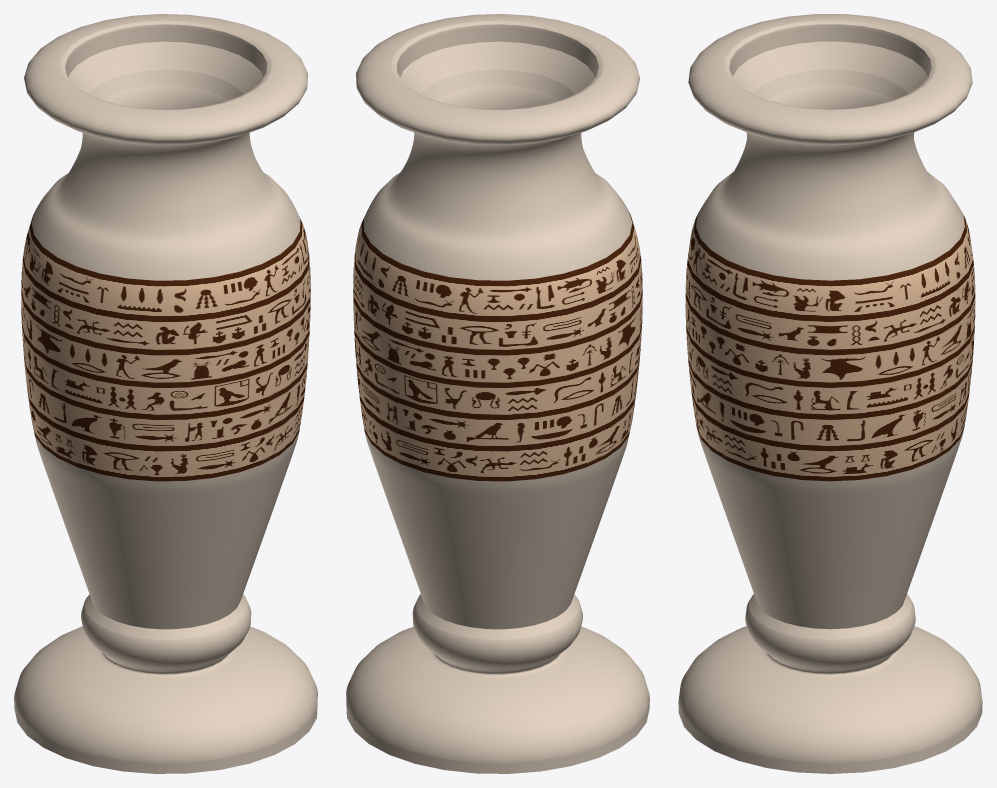
Rendered from vase.fbx.
The picture shows the model from 3 angles, left to right: view 1: azimuth 30°, elevation 25°; view 2: azimuth 150°, elevation 25°; view 3: azimuth 270°, elevation 25°; orthographic projection.
Visible parts, largest first — view 1: vase; view 2: vase; view 3: vase.
Part boxes in pixels (x1,y1,x2,y2): vase: (14,14,317,773); vase: (346,14,649,773); vase: (678,14,982,773).
Size of the model in its own units: 1.24 by 2.9 by 1.24.
2 materials, 1 textured.
